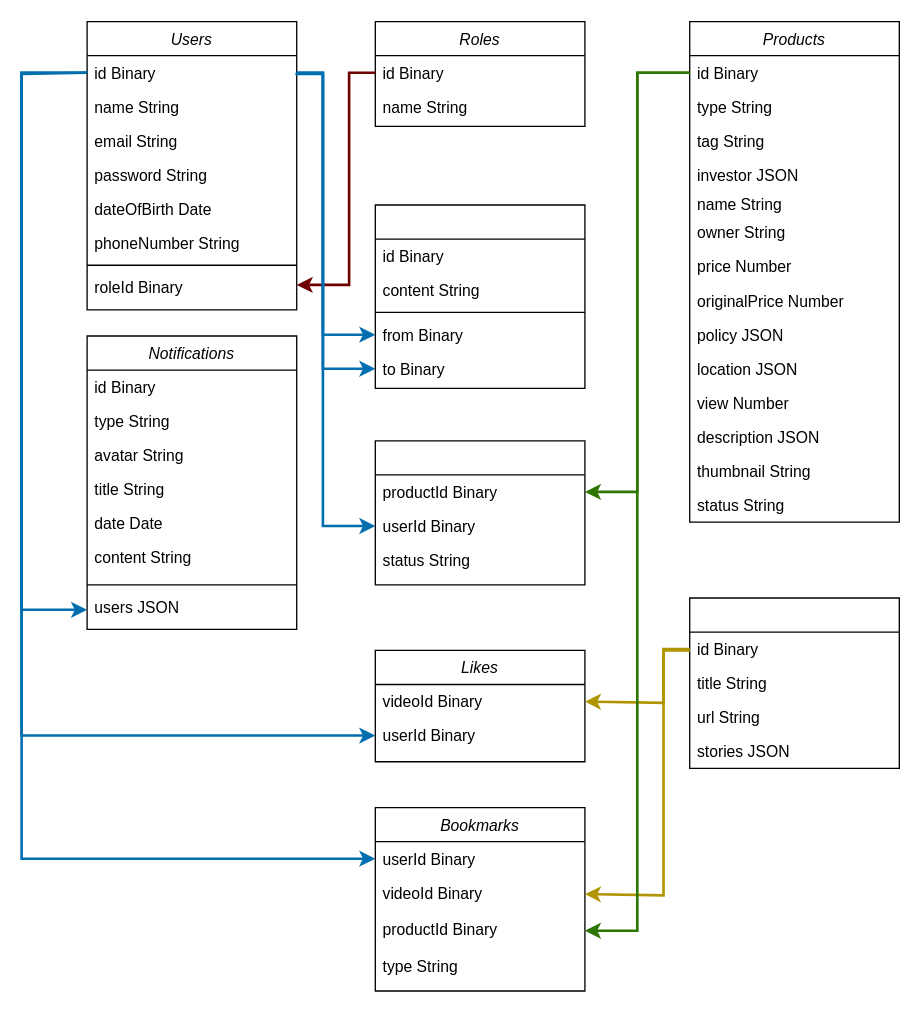
Some shapes in this 921 by 1013 pixel diagram are drawn without their labels. Here are the shapes that lost their labels. From the top down, the box of each, then its label:
(374, 204, 585, 388): Messages
(374, 440, 585, 585): Carts
(688, 597, 899, 768): Videos
